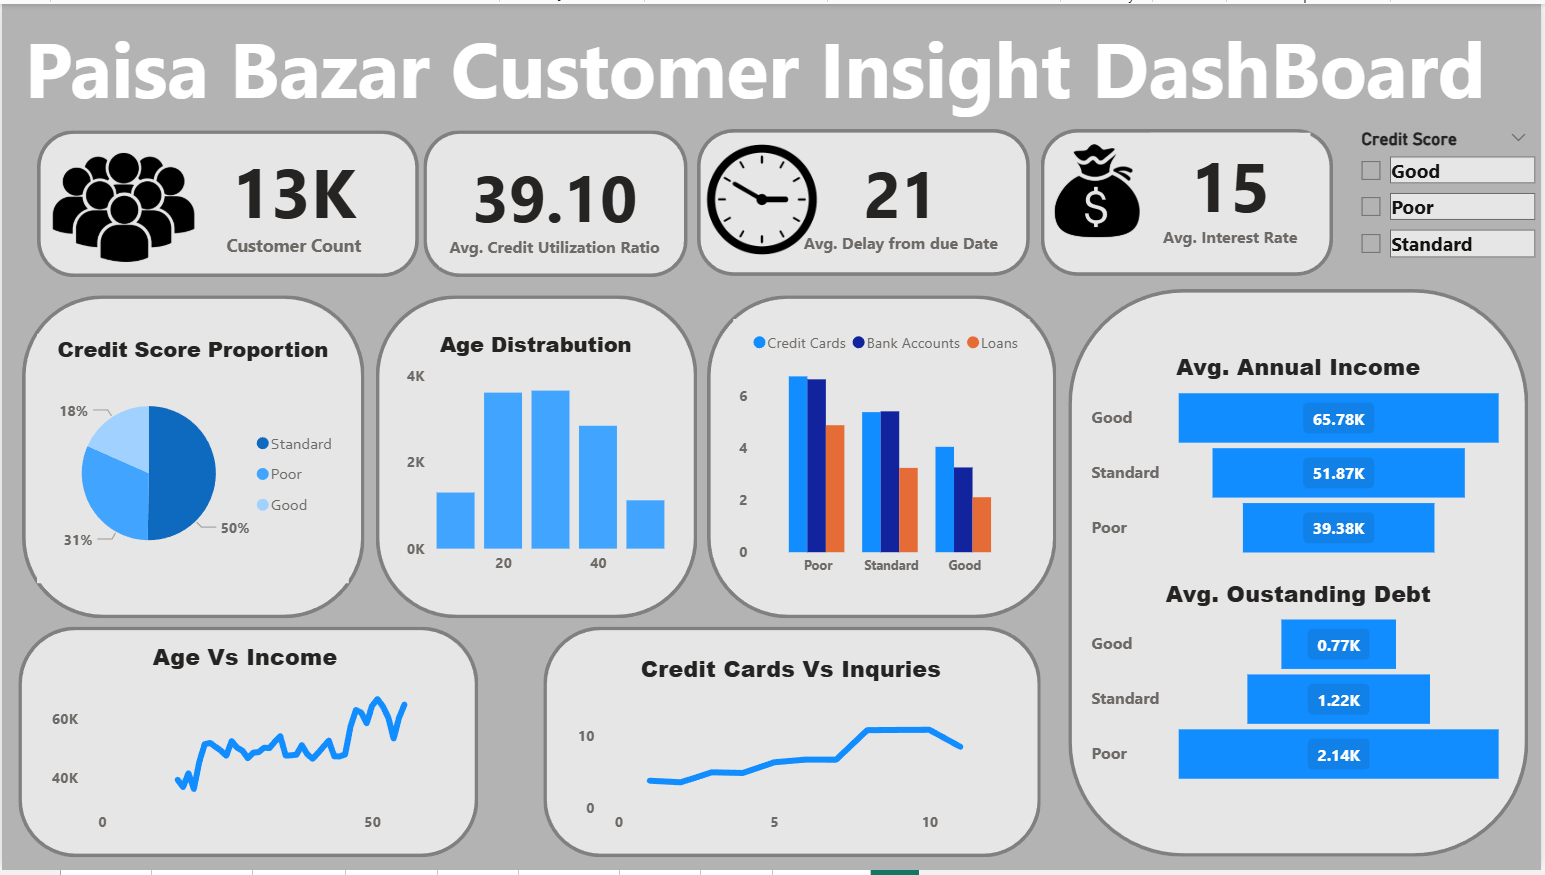

Layout of this report page (visuals, bound fields, positions):
{"tool":"powerbi","page":{"name":"Report","canvas":[1280,720],"ordinal":8},"visuals":[{"type":"shape","box":[16.3,241.9,284.9,268.6],"z":0},{"type":"pieChart","title":"Credit Score Proportion","fields":{"Category":["paisabazar_dataset.Credit_Score"],"Y":["CountNonNull(paisabazar_dataset.Credit_Score)"]},"box":[29.1,274.4,259.3,207],"z":1000},{"type":"shape","box":[310.5,241.9,267.4,268.6],"z":2000},{"type":"shape","box":[14,517.4,382.6,191.9],"z":3000},{"type":"lineChart","title":"Age Vs Income","fields":{"Category":["paisabazar_dataset.Age"],"Y":["Avg(paisabazar_dataset.Annual_Income)"]},"box":[36,529.1,331.4,169.8],"z":4000},{"type":"shape","box":[886,237.2,382.6,472.1],"z":5000},{"type":"clusteredColumnChart","title":"Age Distrabution","fields":{"Y":["paisabazar_dataset.Customer_Count"],"Category":["paisabazar_dataset.Age (bins)"]},"box":[331.4,269.8,224.4,212.8],"z":6000},{"type":"shape","box":[586,241.9,290.7,268.6],"z":7000},{"type":"clusteredColumnChart","title":"Credit Cards, Bank Accounts and Loans","fields":{"Category":["paisabazar_dataset.Credit_Score"],"Y":["Avg(paisabazar_dataset.Credit_Cards)","Avg(paisabazar_dataset.Bank_Accounts)","Avg(paisabazar_dataset.Loans)"]},"box":[608.1,261.6,246.5,222.1],"z":8000},{"type":"shape","box":[450,517.4,414,191.9],"z":9000},{"type":"lineChart","title":"Credit Cards Vs Inquries","fields":{"Category":["paisabazar_dataset.Credit_Cards"],"Y":["Avg(paisabazar_dataset.Num_Credit_Inquries)"]},"box":[474.4,538.4,364,160.5],"z":10000},{"type":"funnel","title":"Avg. Annual Income","fields":{"Category":["paisabazar_dataset.Credit_Score"],"Y":["Avg(paisabazar_dataset.Annual_Income)"]},"box":[901.2,288.4,353.5,177.9],"z":11000},{"type":"funnel","title":"Avg. Oustanding Debt","fields":{"Y":["Avg(paisabazar_dataset.Outstanding_Debt)"],"Category":["paisabazar_dataset.Credit_Score"]},"box":[901.2,475.6,353.5,177.9],"z":12000},{"type":"shape","box":[29.1,104.7,317.4,122.1],"z":13000},{"type":"card","fields":{"Values":["paisabazar_dataset.Customer_Count"]},"box":[159.3,112.8,167.4,101.2],"z":14000},{"type":"shape","box":[350,104.7,219.8,122.1],"z":15000},{"type":"card","fields":{"Values":["Avg(paisabazar_dataset.Credit_Utilization_Ratio)"]},"box":[364,116.3,191.9,102.3],"z":16000},{"type":"shape","box":[864,103.5,243,122.1],"z":17000},{"type":"shape","box":[577.9,103.5,276.7,122.1],"z":18000},{"type":"card","fields":{"Values":["Avg(paisabazar_dataset.Delay_from_due_date)"]},"box":[657,112.8,181.4,102.3],"z":19000},{"type":"card","fields":{"Values":["Avg(paisabazar_dataset.Interest_Rate)"]},"box":[954.7,107,132.6,101.2],"z":20000},{"type":"shape","box":[0,0,1252.3,103.5],"z":21000},{"type":"image","box":[577.9,110.5,108.1,104.7],"z":22000},{"type":"image","box":[29.1,103.5,144.2,130.2],"z":23000},{"type":"image","box":[860.5,110.5,100,94.2],"z":24000},{"type":"slicer","fields":{"Values":["paisabazar_dataset.Credit_Score"]},"box":[1117.4,98.8,162.8,127.9],"z":25000}]}

Visuals, with their boxes in screenshot pixels (x1, y1, x2, y2), scaled from the page's 1280x720 canvas onto the 1545x875 screenshot:
shape: 20, 294, 364, 620
"Credit Score Proportion" pieChart: 35, 333, 348, 585
shape: 375, 294, 698, 620
shape: 17, 629, 479, 862
"Age Vs Income" lineChart: 43, 643, 443, 849
shape: 1069, 288, 1531, 862
"Age Distrabution" clusteredColumnChart: 400, 328, 671, 586
shape: 707, 294, 1058, 620
"Credit Cards, Bank Accounts and Loans" clusteredColumnChart: 734, 318, 1032, 588
shape: 543, 629, 1043, 862
"Credit Cards Vs Inquries" lineChart: 573, 654, 1012, 849
"Avg. Annual Income" funnel: 1088, 350, 1514, 567
"Avg. Oustanding Debt" funnel: 1088, 578, 1514, 794
shape: 35, 127, 418, 276
card - paisabazar_dataset.Customer_Count: 192, 137, 394, 260
shape: 422, 127, 688, 276
card - Avg(paisabazar_dataset.Credit_Utilization_Ratio): 439, 141, 671, 266
shape: 1043, 126, 1336, 274
shape: 698, 126, 1032, 274
card - Avg(paisabazar_dataset.Delay_from_due_date): 793, 137, 1012, 261
card - Avg(paisabazar_dataset.Interest_Rate): 1152, 130, 1312, 253
shape: 0, 0, 1512, 126
image: 698, 134, 828, 262
image: 35, 126, 209, 284
image: 1039, 134, 1159, 249
slicer - paisabazar_dataset.Credit_Score: 1349, 120, 1544, 276
